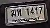1: (25, 6, 29, 15), (35, 6, 37, 14)
4: (30, 7, 34, 14)
7: (37, 5, 42, 14)
ฆ: (10, 9, 15, 17)
ท: (16, 8, 22, 16)
